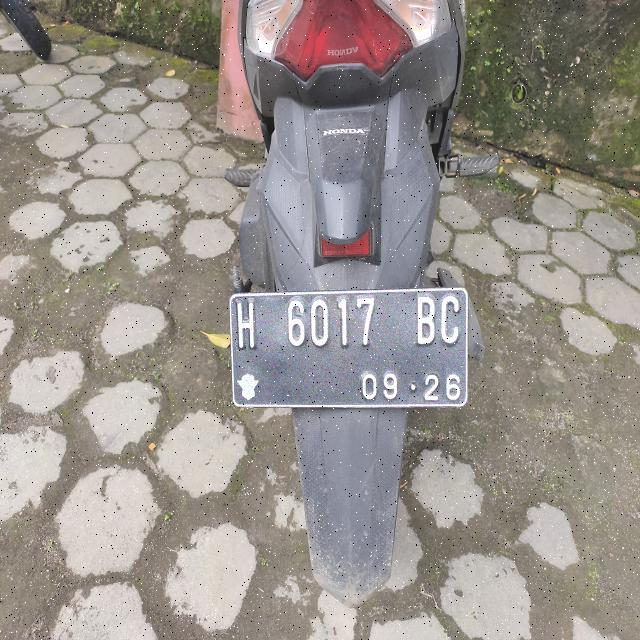plate: (230, 288, 467, 406)
